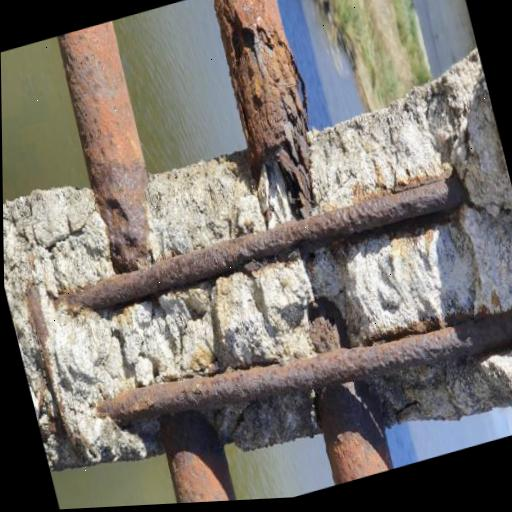exposed_rebar: (55, 176, 468, 311), (97, 312, 512, 425), (25, 281, 80, 456), (309, 315, 342, 354)
spalling: (3, 51, 512, 469)
